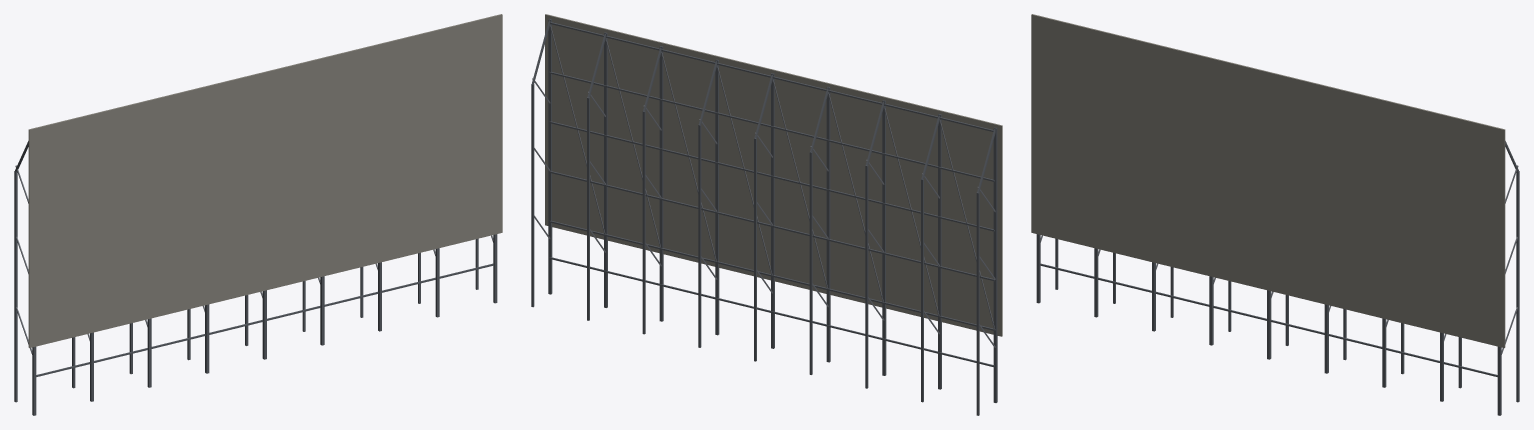
File: ScreenLattice.obj
3 renders of one model, left to right at view 1: azimuth 30°, elevation 25°; view 2: azimuth 150°, elevation 25°; view 3: azimuth 330°, elevation 25°, orthographic. The views are drawn at different scales.
Visible parts, largest first — view 1: ScreenLattice; view 2: ScreenLattice; view 3: ScreenLattice.
Boxes of the visible parts, x1,y1,x2,y2 form: ScreenLattice: (14, 14, 502, 415); ScreenLattice: (531, 14, 1002, 415); ScreenLattice: (1031, 14, 1519, 415).
Bounding box in the file's own units: 47.2 × 27.4 × 3.45.
Materials: 1 (1 with a texture image).
